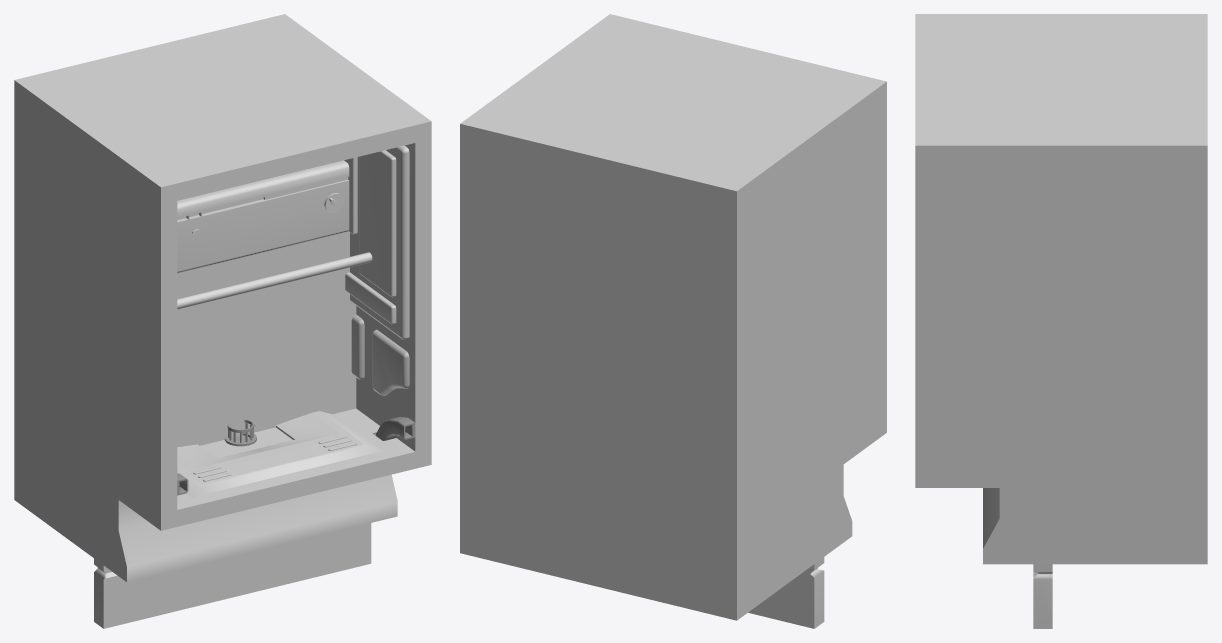
File: dishwasher_FP19.obj
The picture shows the model from 3 angles, left to right: view 1: azimuth 30°, elevation 25°; view 2: azimuth 150°, elevation 25°; view 3: azimuth 270°, elevation 25°; orthographic projection. The views are drawn at different scales.
Visible parts, largest first — view 1: dishwasher_FP19, dishwasher_door_FP19; view 2: dishwasher_FP19, dishwasher_door_FP19; view 3: dishwasher_FP19, dishwasher_door_FP19.
Boxes of the visible parts, x1=… form: dishwasher_FP19: x1=14, y1=14, x2=431, y2=582; dishwasher_door_FP19: x1=94, y1=160, x2=372, y2=628; dishwasher_FP19: x1=460, y1=14, x2=886, y2=620; dishwasher_door_FP19: x1=748, y1=557, x2=824, y2=628; dishwasher_FP19: x1=915, y1=14, x2=1207, y2=564; dishwasher_door_FP19: x1=1033, y1=564, x2=1052, y2=628.
Size of the model in its own units: 0.592 by 1.01 by 0.5556.
